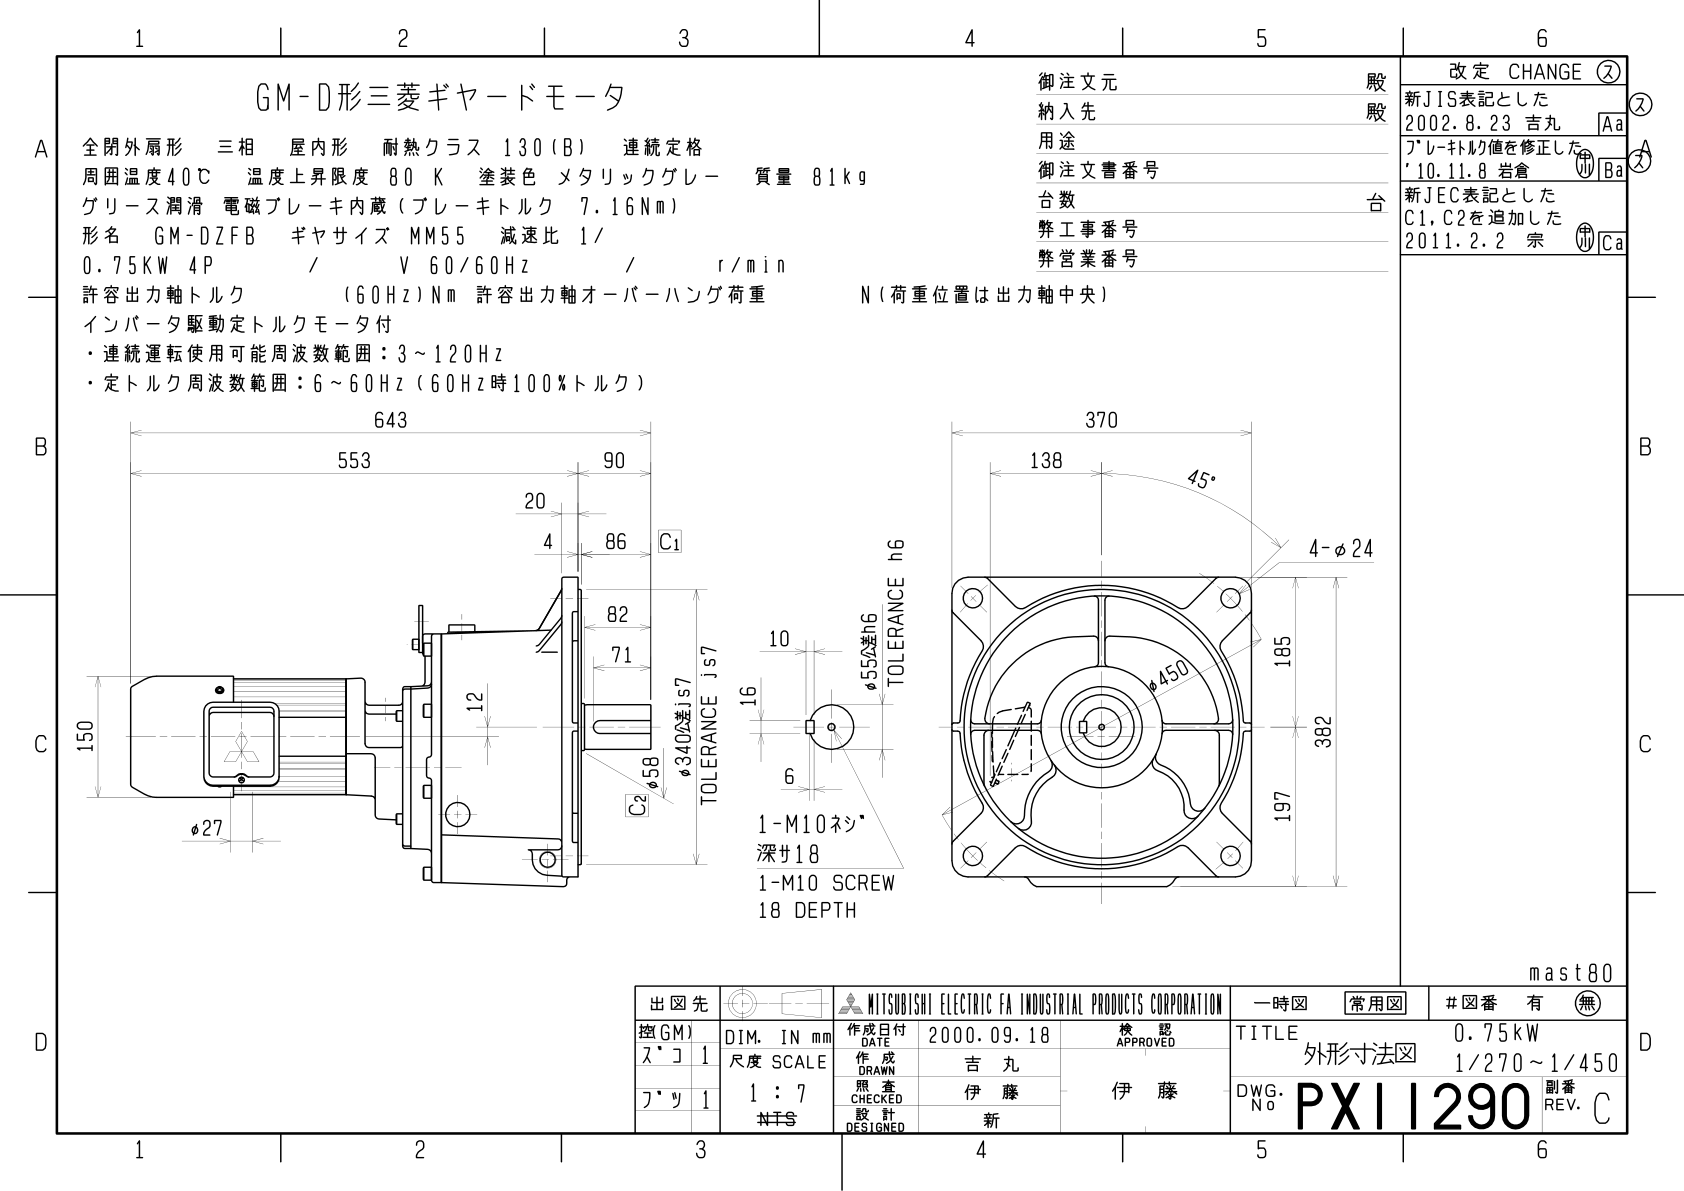GM_D_インバータ屋内_三相_フランジ: (70, 400, 1381, 949)
